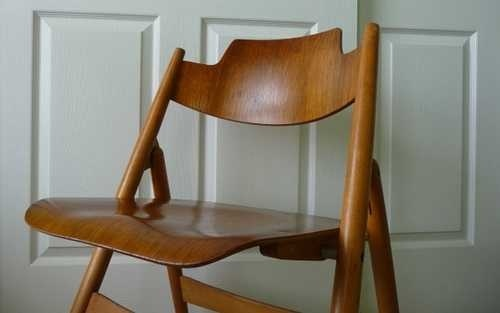obstacle: (25, 23, 397, 312)
